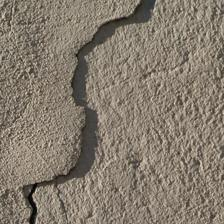Crack: (0, 24, 80, 119), (5, 30, 45, 218)
